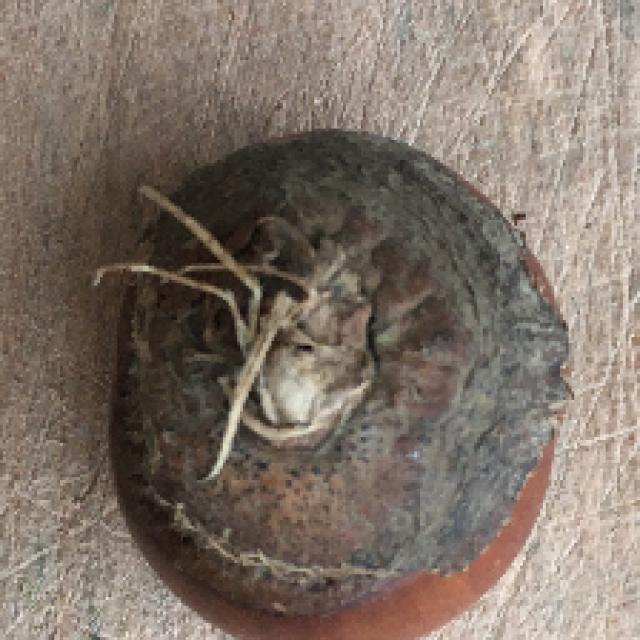damagedHazelnut: (103, 124, 575, 640)
